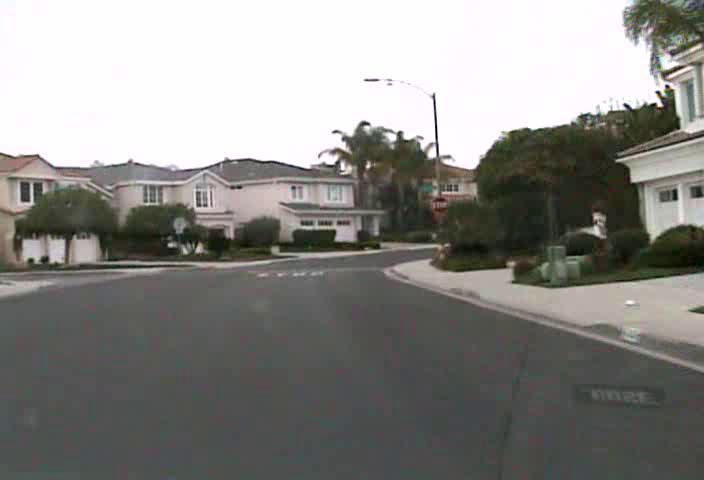stop: (431, 196, 449, 214)
